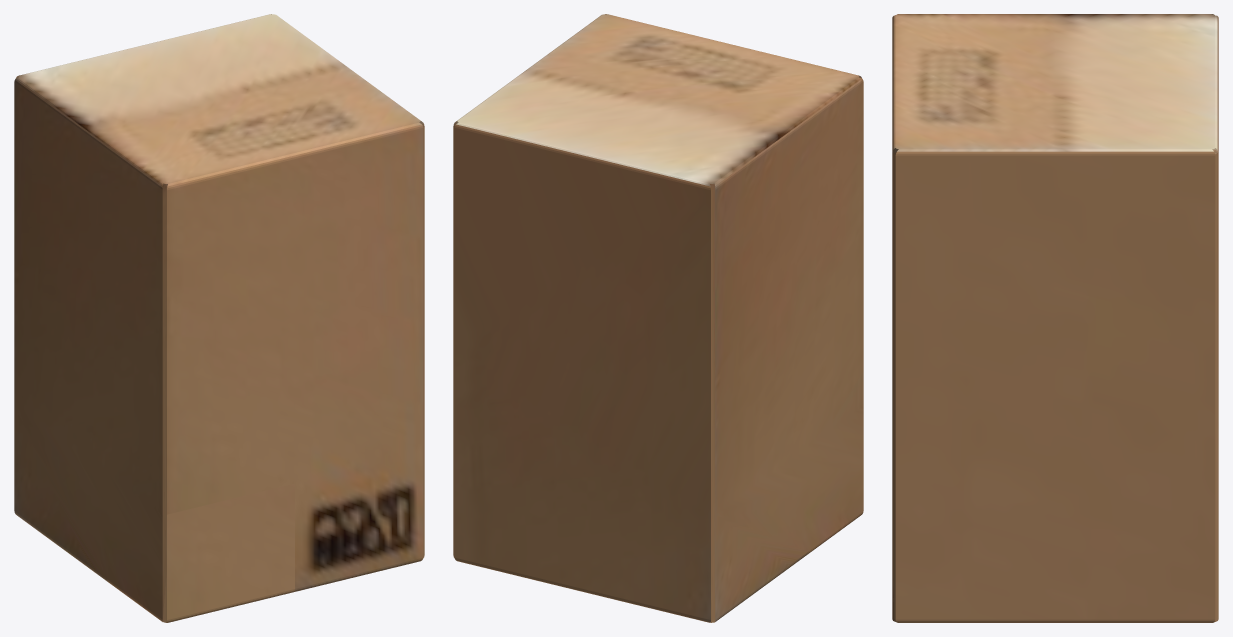
3 views of the same model, side by side, from view 1: azimuth 30°, elevation 25°; view 2: azimuth 150°, elevation 25°; view 3: azimuth 270°, elevation 25° (orthographic). The views are drawn at different scales.
Visible parts, largest first — view 1: Box Packaging.002; view 2: Box Packaging.002; view 3: Box Packaging.002.
Part boxes in pixels (x1,y1,x2,y2): Box Packaging.002: (14,14,424,622); Box Packaging.002: (453,14,863,622); Box Packaging.002: (892,14,1218,622).
Size of the model in its own units: 208 by 333 by 208.
Materials: 1 (1 with a texture image).
